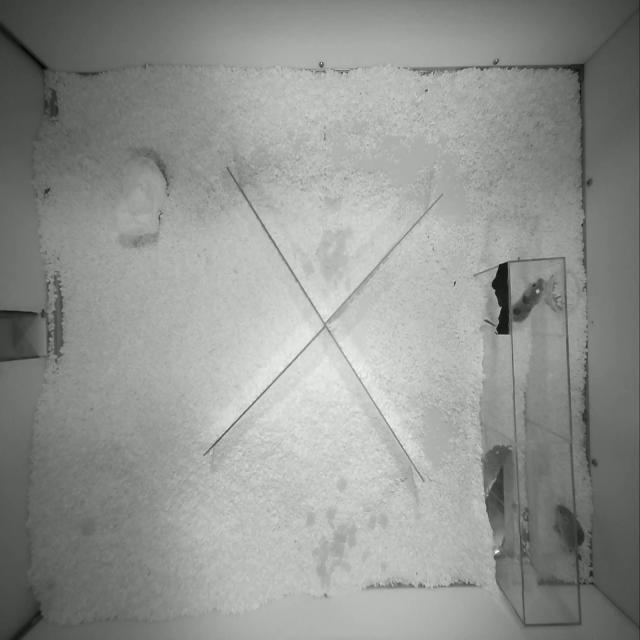pup_fluffy: (554, 505, 584, 561)
pup_spotted: (512, 278, 544, 322)
